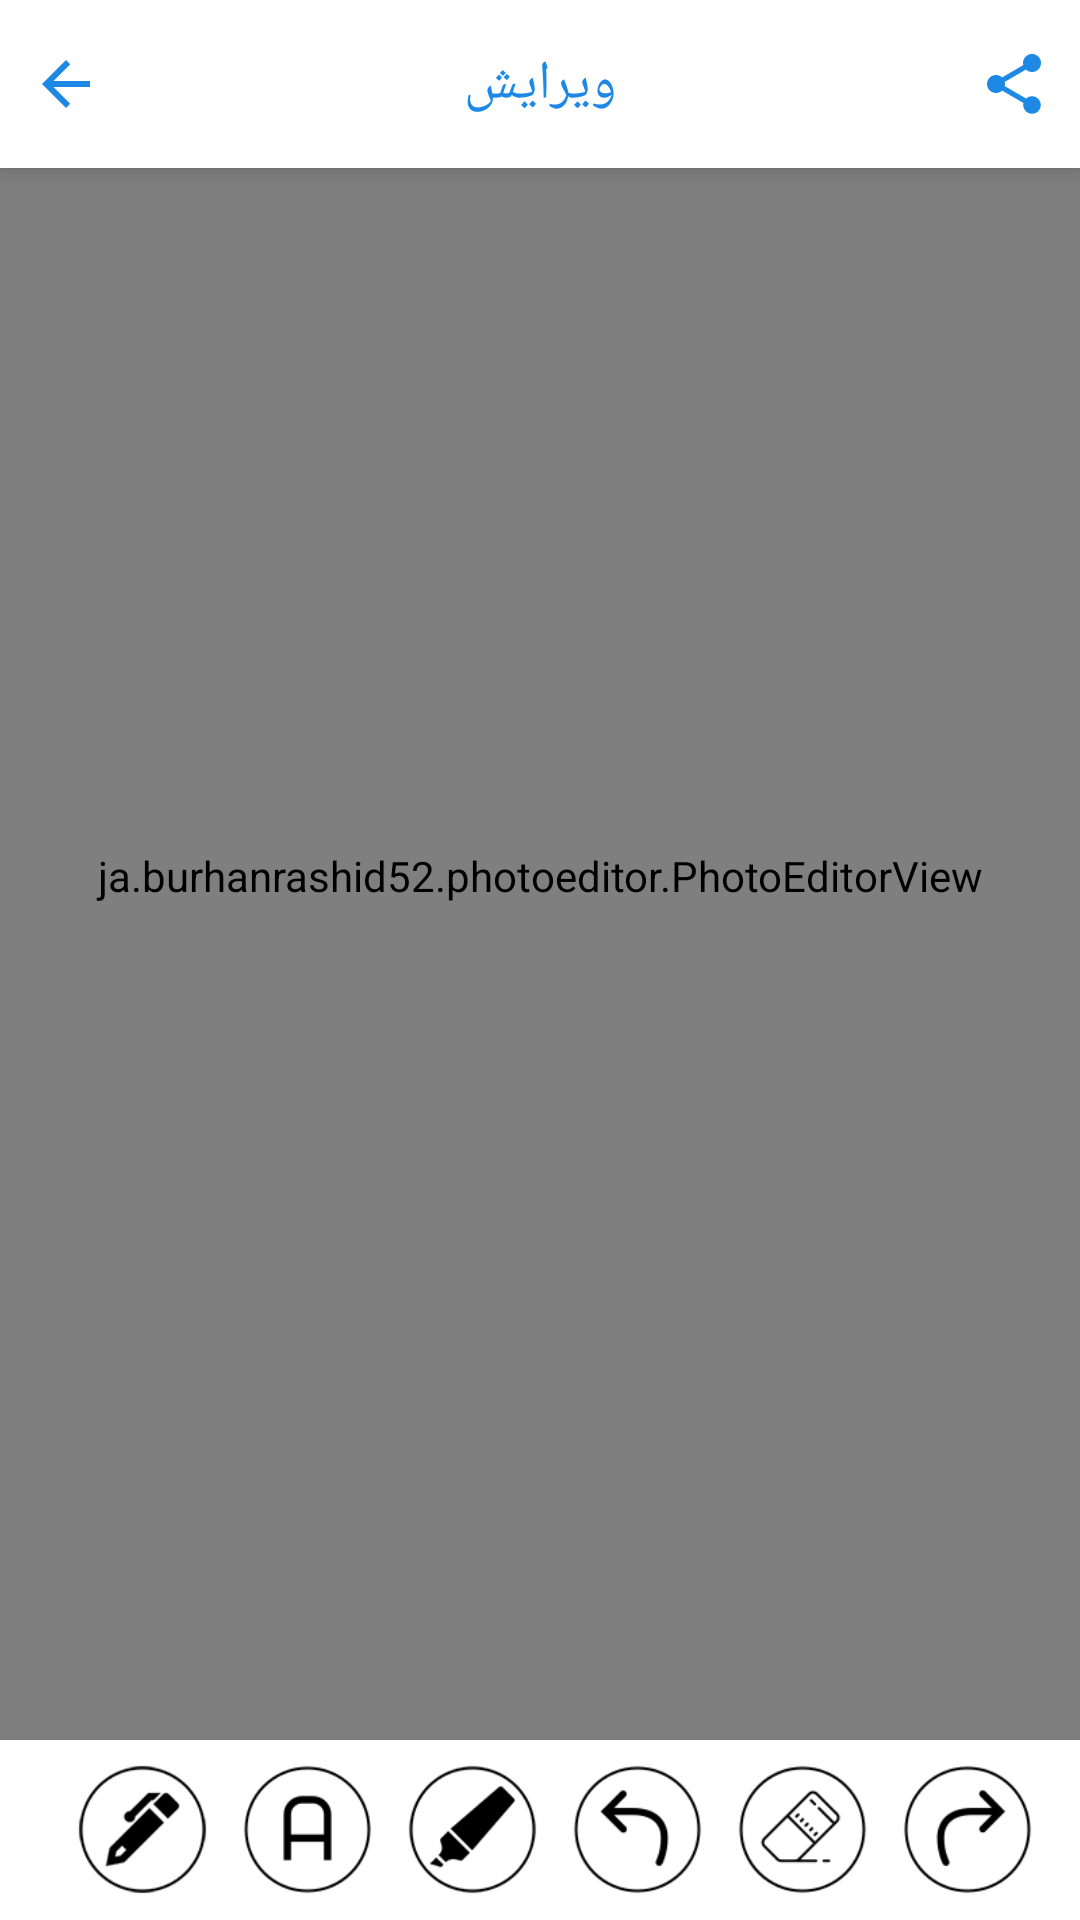

Icon bounding boxes for this 1080x1920 phone screenshot, format (x1=x1, y1=y1, x2=x2, y2=y2):
arrow back: (x1=42, y1=60, x2=90, y2=108)
eraser: (x1=739, y1=1766, x2=866, y2=1893)
marker pen: (x1=409, y1=1766, x2=536, y2=1893)
pen: (x1=79, y1=1766, x2=206, y2=1893)
redo: (x1=904, y1=1766, x2=1031, y2=1893)
share: (x1=987, y1=54, x2=1041, y2=114)
undo: (x1=574, y1=1766, x2=701, y2=1893)
